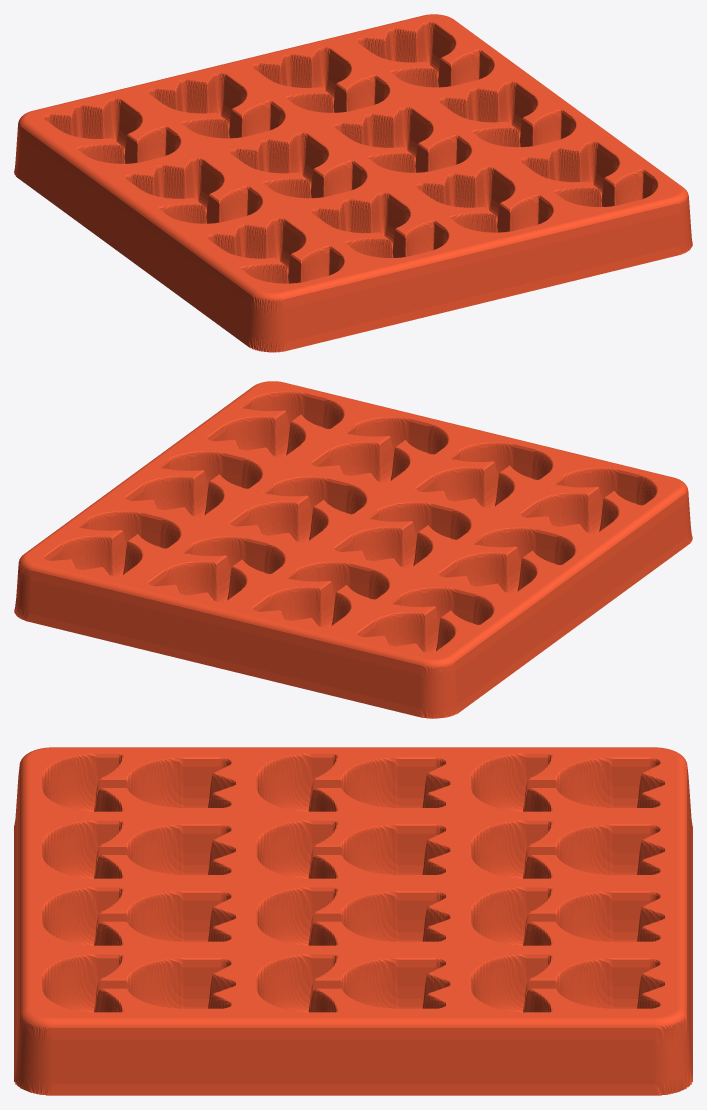
The model's file is mold.glb.
3 views of the same model, one above another, from view 1: azimuth 30°, elevation 25°; view 2: azimuth 150°, elevation 25°; view 3: azimuth 270°, elevation 25° (orthographic). The views are drawn at different scales.
Visible parts, largest first — view 1: geometry_0; view 2: geometry_0; view 3: geometry_0.
Boxes of the visible parts, <box> form: geometry_0: <box>14,14,692,352</box>; geometry_0: <box>14,381,692,718</box>; geometry_0: <box>14,747,692,1095</box>.
Bounding box in the file's own units: 0.1573 × 0.0185 × 0.1598.
